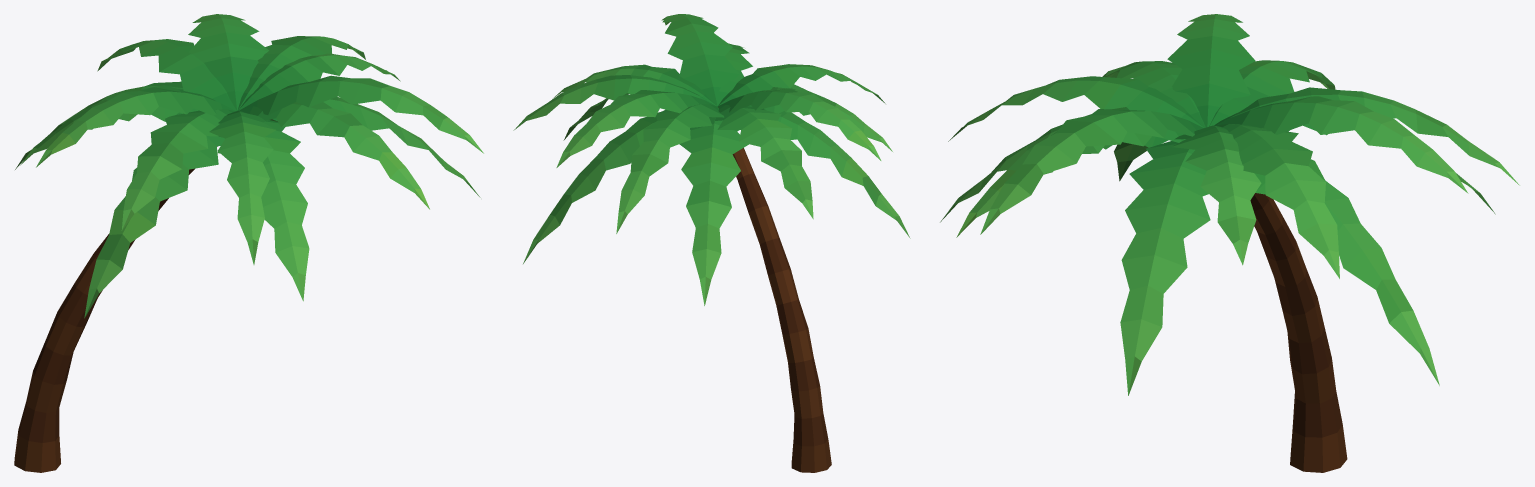
File: palm-2.glb
3 views of the same model, side by side, from view 1: azimuth 30°, elevation 25°; view 2: azimuth 150°, elevation 25°; view 3: azimuth 270°, elevation 25° (orthographic). The views are drawn at different scales.
Visible parts, largest first — view 1: palm-2; view 2: palm-2; view 3: palm-2.
Part boxes in pixels (bbox=[...]): palm-2: bbox=[14, 14, 483, 472]; palm-2: bbox=[513, 14, 910, 472]; palm-2: bbox=[940, 14, 1519, 472].
Bounding box in the file's own units: 6.72 × 6.15 × 6.82.
